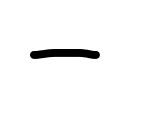minus: (30, 48, 100, 60)
